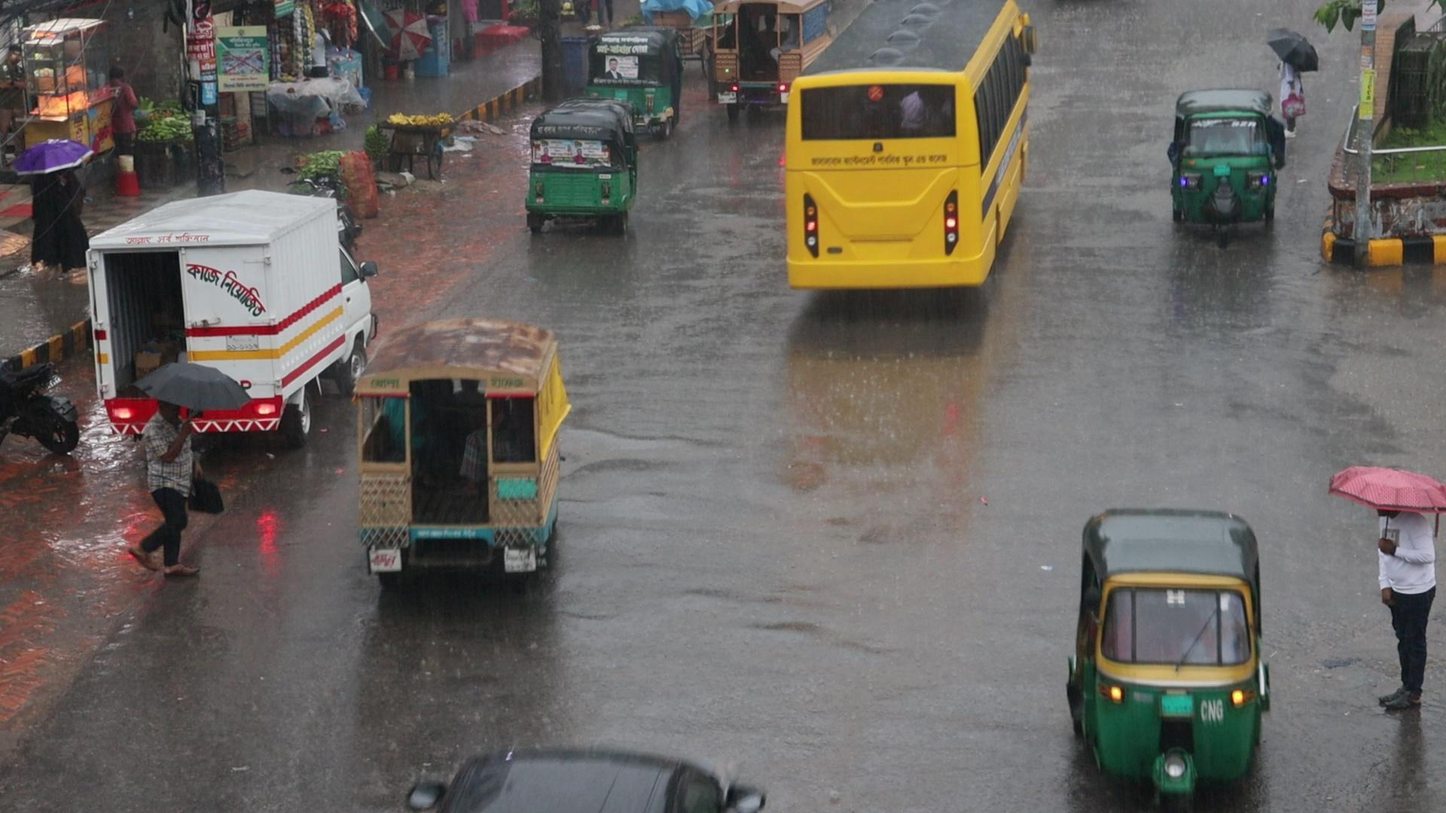Bus: (785, 0, 1035, 290)
Truck: (353, 314, 561, 599)
